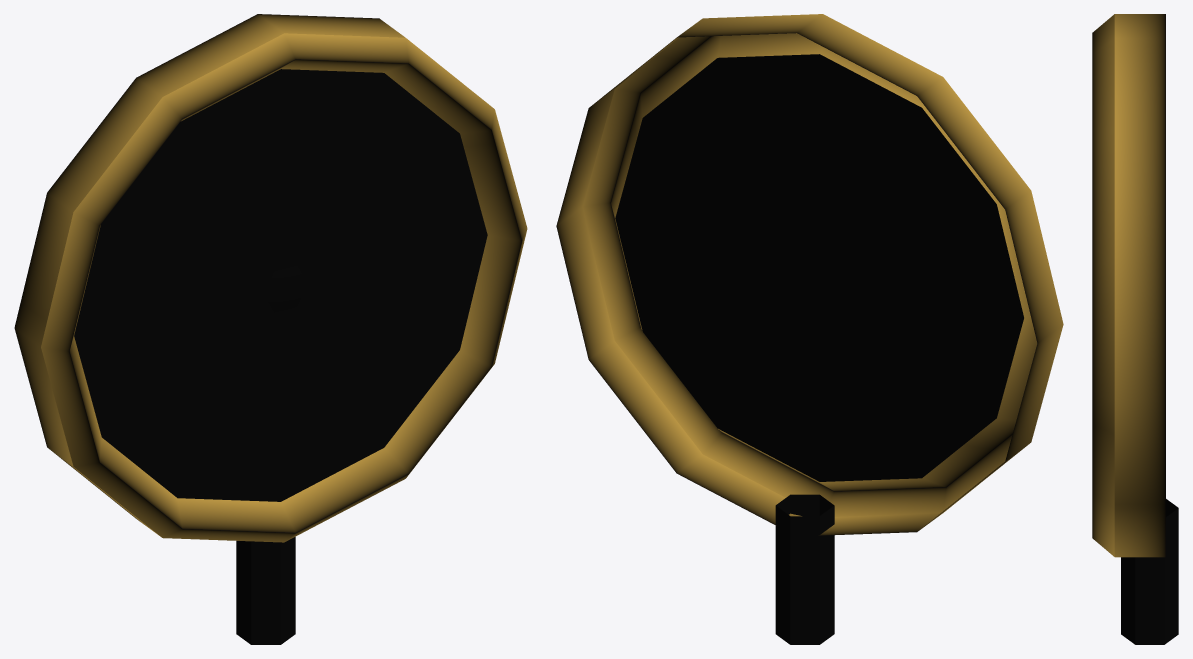
File: gauge_small.glb
3 renders of one model, left to right at view 1: azimuth 30°, elevation 25°; view 2: azimuth 150°, elevation 25°; view 3: azimuth 270°, elevation 25°, orthographic. The views are drawn at different scales.
Visible parts, largest first — view 1: gauge, brass, dark; view 2: gauge, brass; view 3: brass.
Boxes of the visible parts, x1=… form: gauge: x1=74, y1=69, x2=487, y2=501; brass: x1=14, y1=14, x2=527, y2=644; dark: x1=104, y1=86, x2=460, y2=464; gauge: x1=615, y1=54, x2=1023, y2=481; brass: x1=556, y1=14, x2=1063, y2=644; brass: x1=1092, y1=14, x2=1178, y2=644.
Size of the model in its own units: 0.17 by 0.205 by 0.027.
